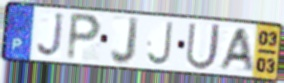A: (216, 27, 256, 72)
J: (109, 15, 141, 67), (35, 12, 66, 59), (145, 20, 175, 67)
P: (64, 11, 104, 63)
U: (184, 21, 223, 72)
